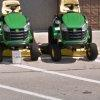Tractor: (6, 3, 99, 72)
